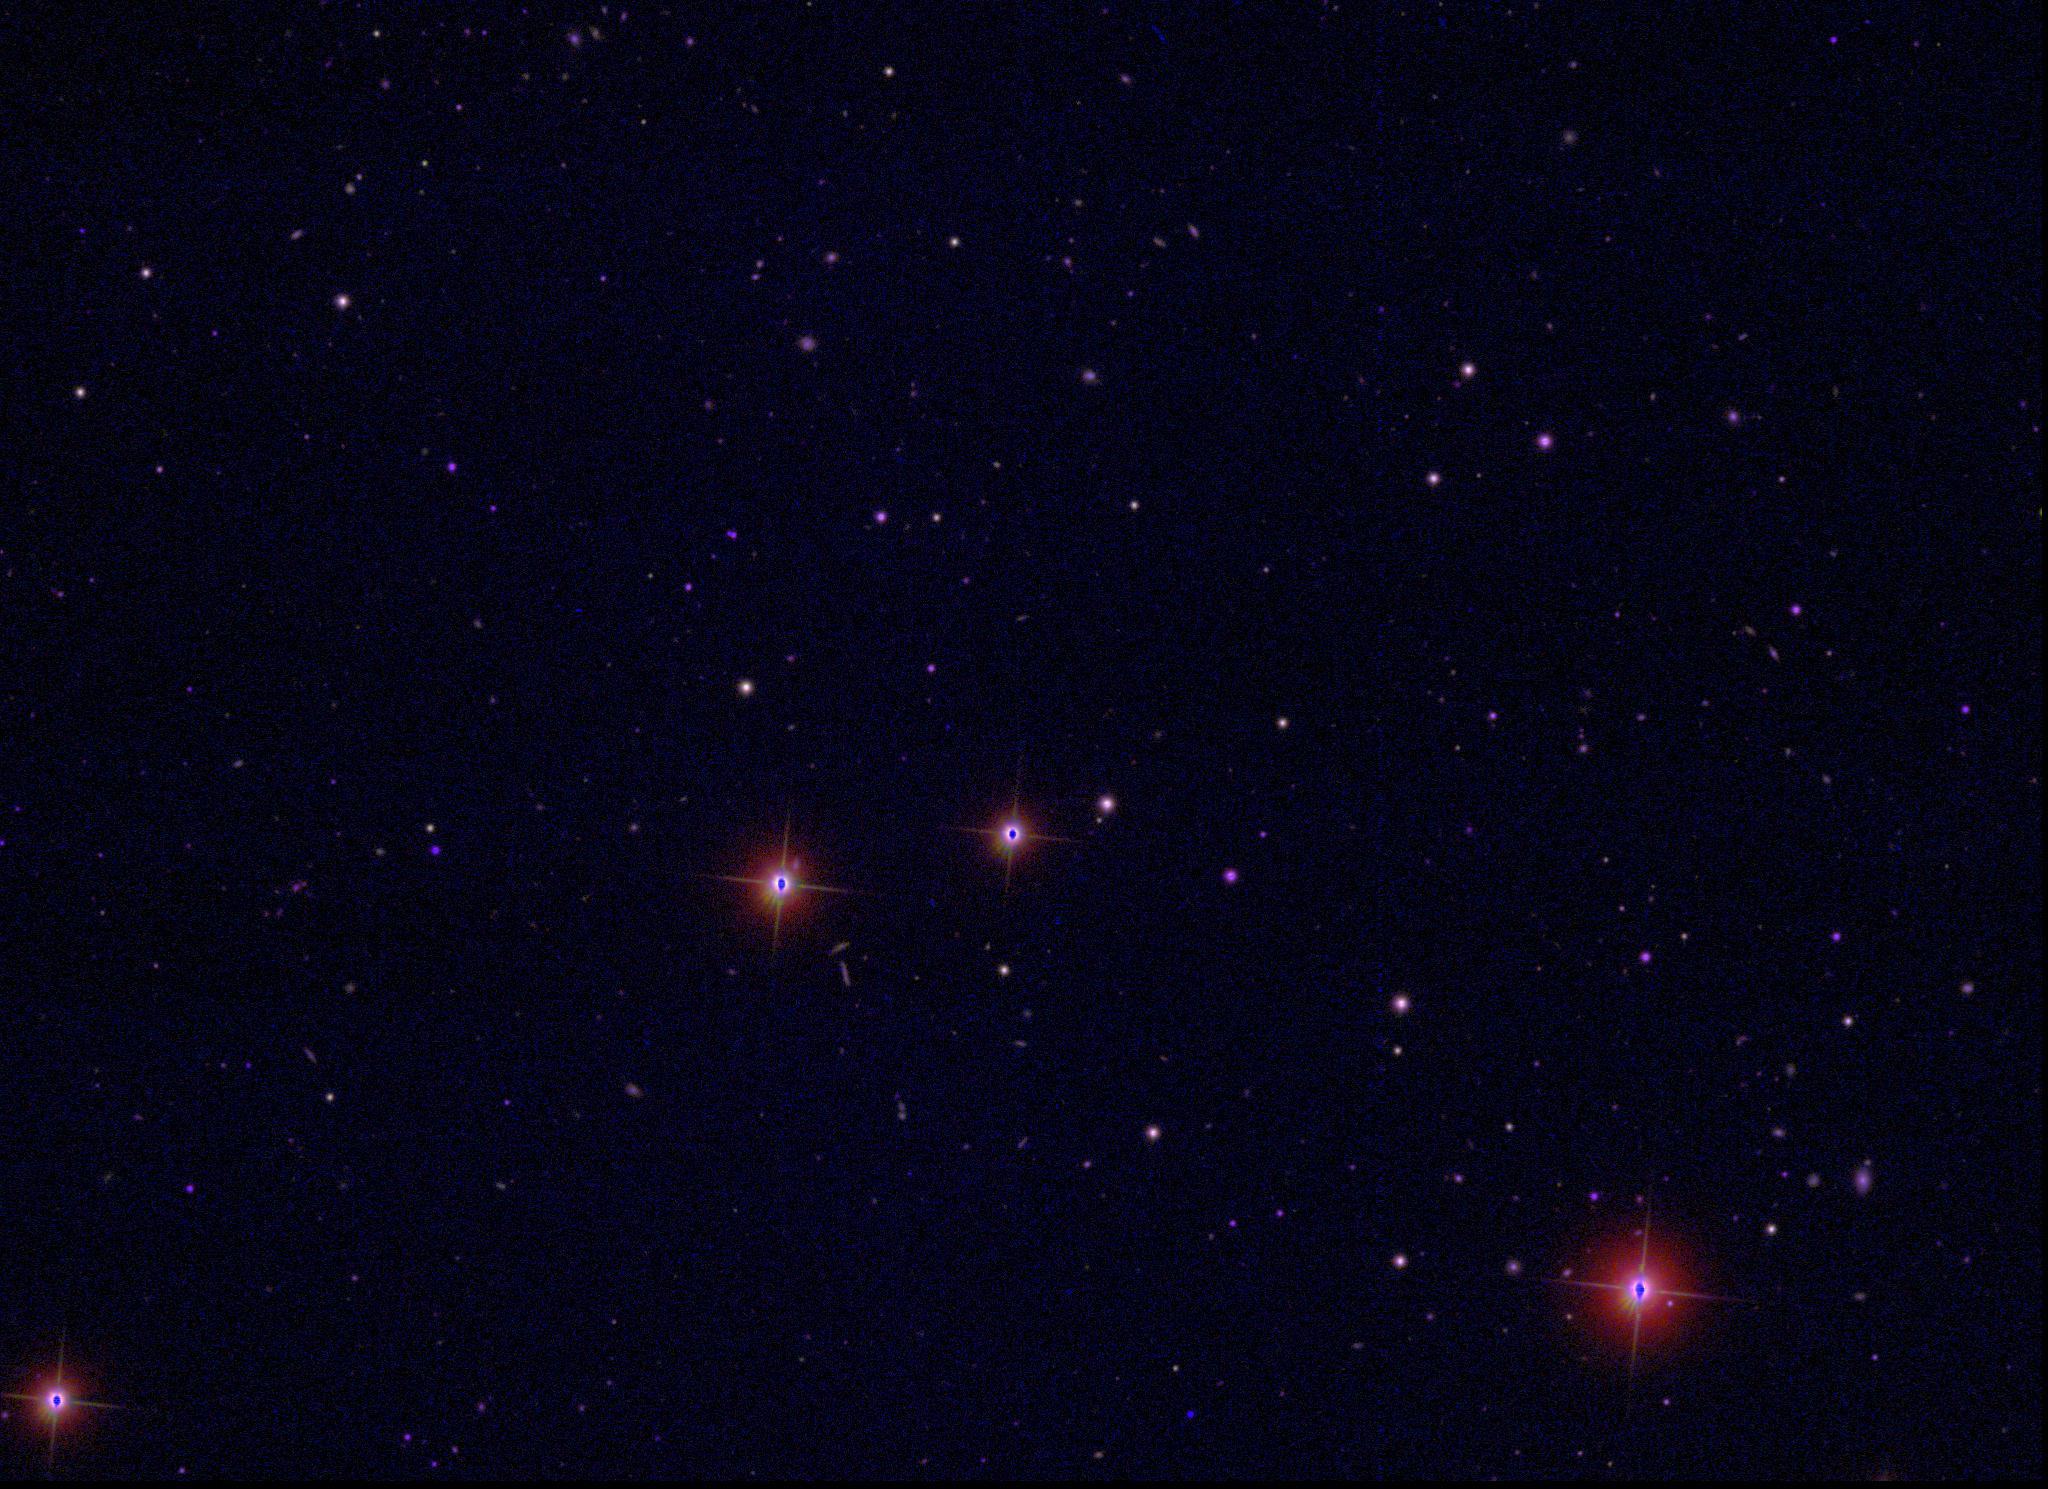L: (1185, 1408, 1197, 1422)
